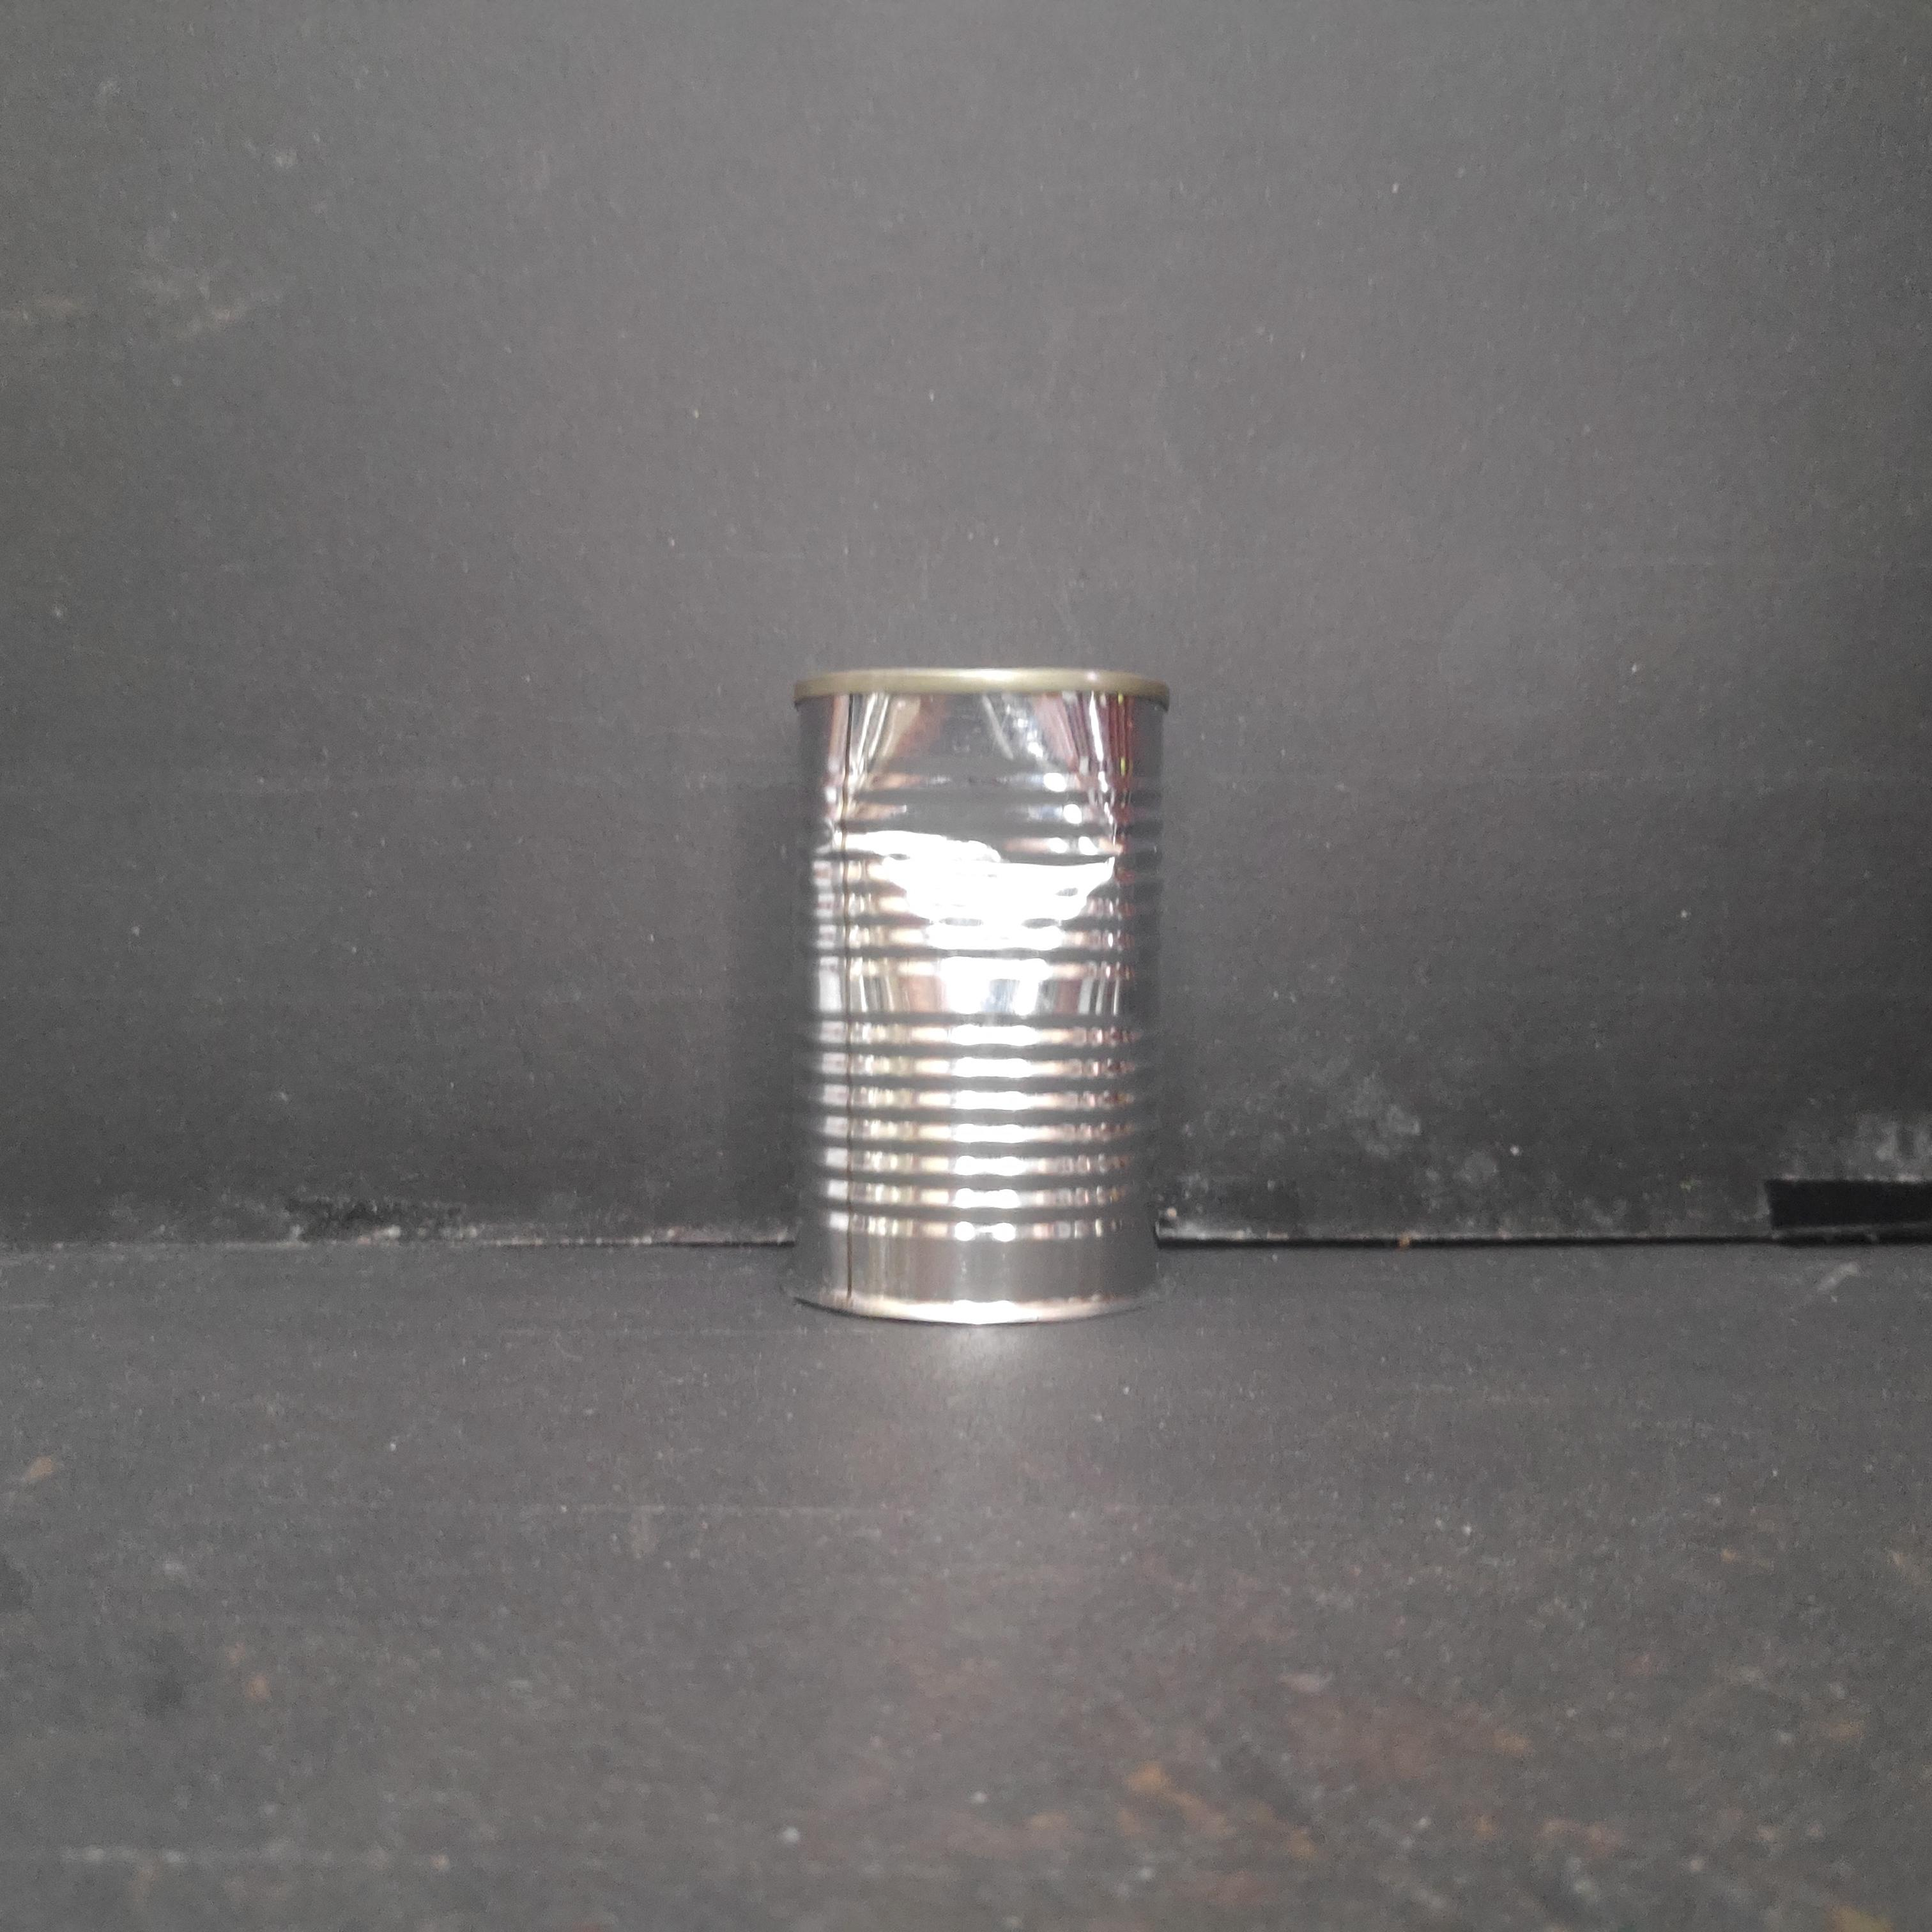Minor Defect: (771, 649, 1185, 1346)
